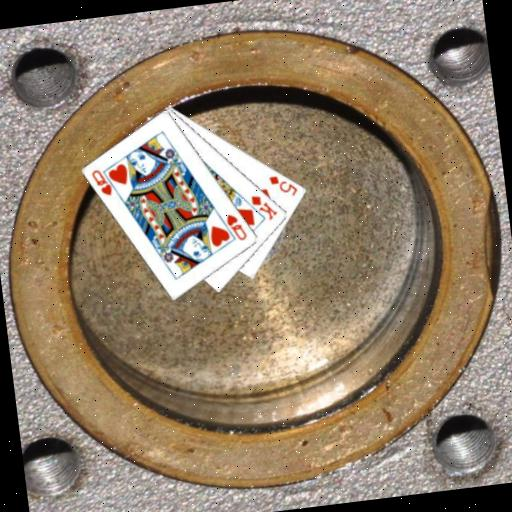5D: (266, 170, 300, 200)
KD: (248, 190, 281, 224)
QH: (89, 165, 122, 200), (223, 209, 250, 244)
